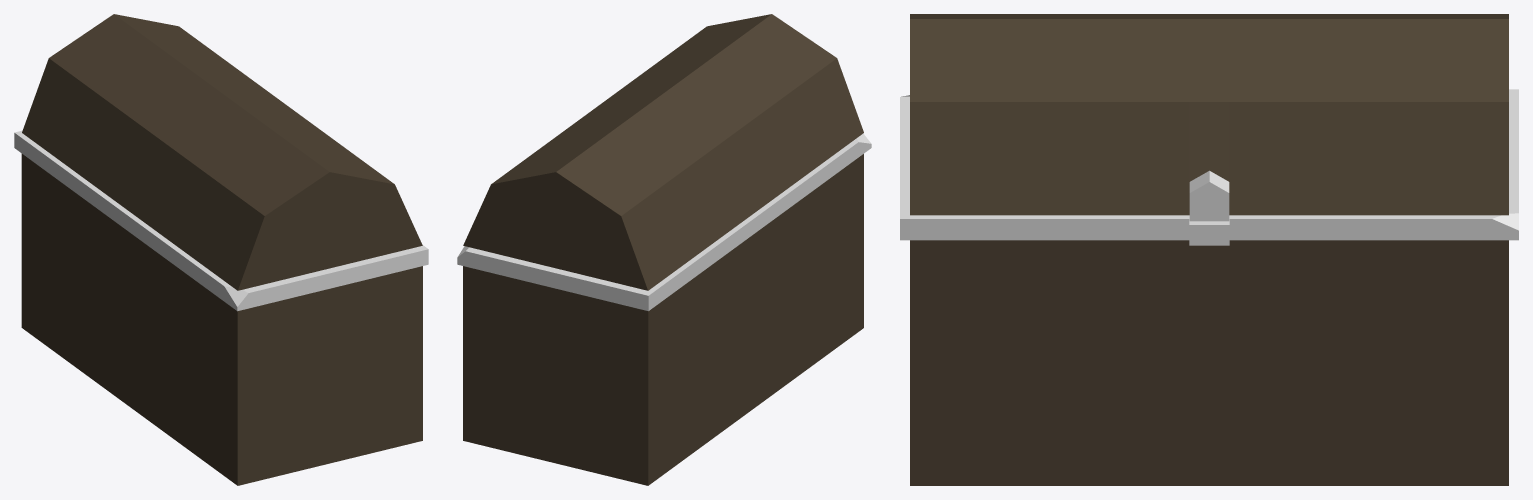
The model's file is Treasure.glb.
3 views of the same model, side by side, from view 1: azimuth 30°, elevation 25°; view 2: azimuth 150°, elevation 25°; view 3: azimuth 270°, elevation 25° (orthographic). The views are drawn at different scales.
Parts seen in each view (by area): view 1: Main, Lid; view 2: Main, Lid; view 3: Main, Lid.
Boxes of the visible parts, x1,y1,x2,y2 form: Main: [14, 130, 428, 485]; Lid: [22, 14, 422, 290]; Main: [457, 133, 871, 485]; Lid: [463, 14, 863, 290]; Main: [900, 89, 1518, 485]; Lid: [910, 14, 1508, 221].
Size of the model in its own units: 1.08 by 1.5 by 2.09.
